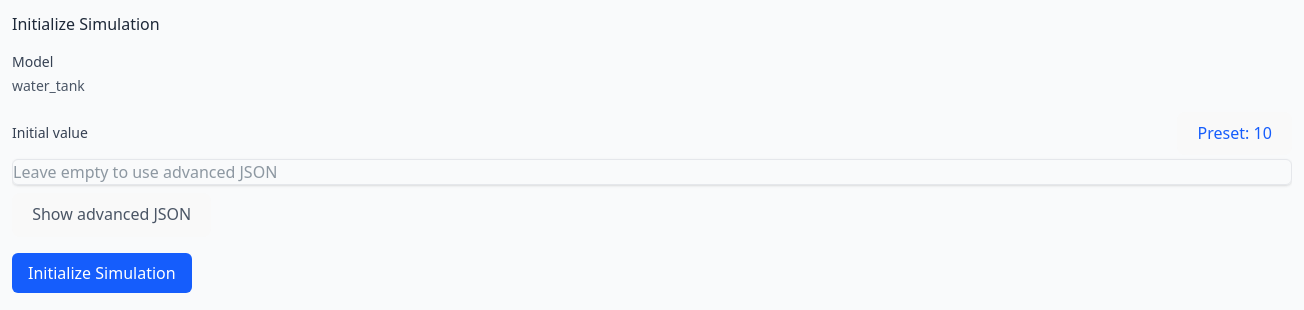
SimulationInitializer › renders form and initializes session on submit
Type "10" into the number field with placeholder "Leave empty to use advanced JSON". click: (652, 172)
box: [12,158,1292,184]
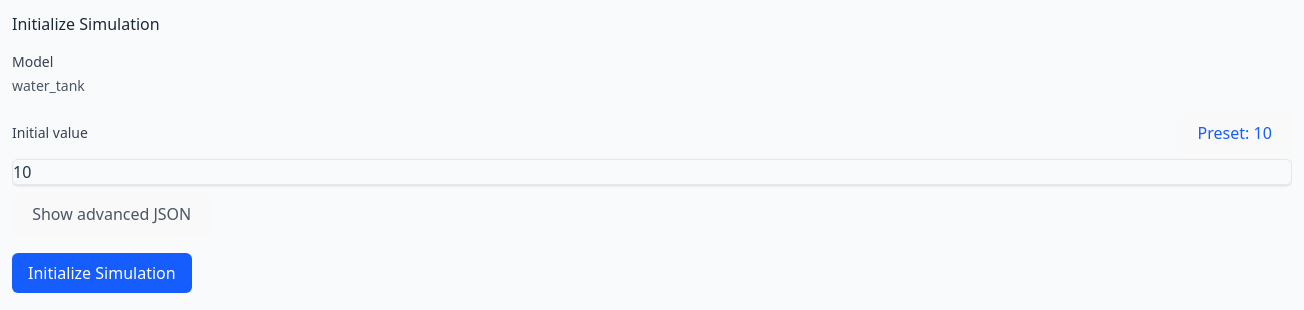
Click the button "Initialize Simulation". click: (102, 272)
box: [12,252,192,292]
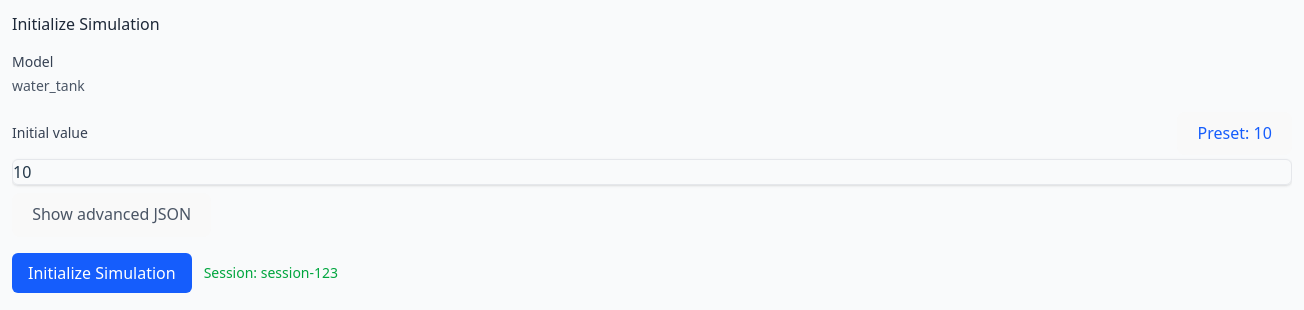
Expected: the text "Session: session-123" is shown, [204,262,338,282]
